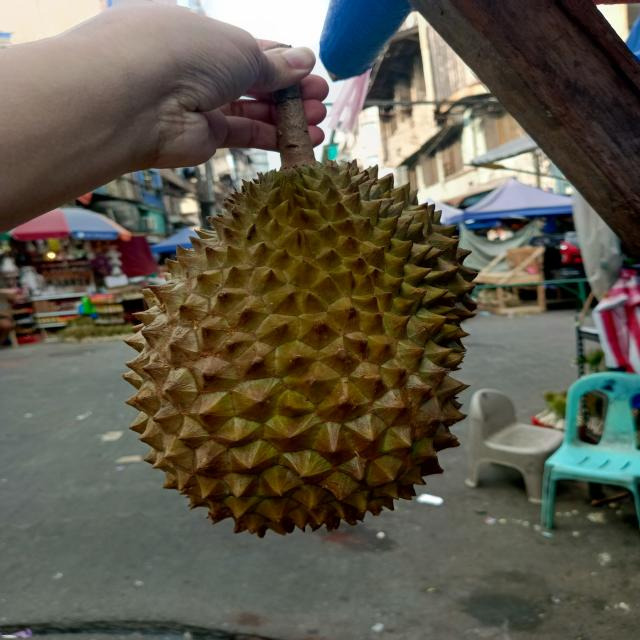mature: (120, 150, 472, 535)
